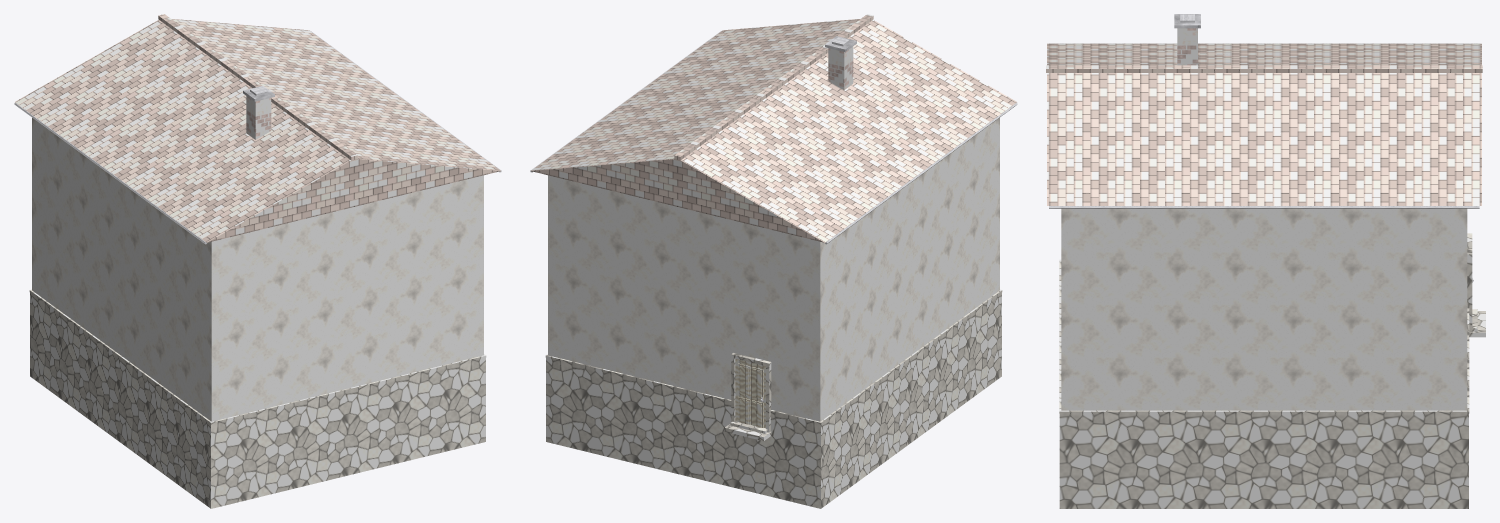
3 views of the same model, side by side, from view 1: azimuth 30°, elevation 25°; view 2: azimuth 150°, elevation 25°; view 3: azimuth 270°, elevation 25° (orthographic). The views are drawn at different scales.
Parts seen in each view (by area): view 1: b1088806808; view 2: b1088806808; view 3: b1088806808.
Boxes of the visible parts, x1,y1,x2,y2 form: b1088806808: [14, 14, 501, 508]; b1088806808: [530, 14, 1017, 508]; b1088806808: [1046, 14, 1485, 508].
Bounding box in the file's own units: 9.36 × 10.59 × 10.62.
Materials: 14 (14 with a texture image).
